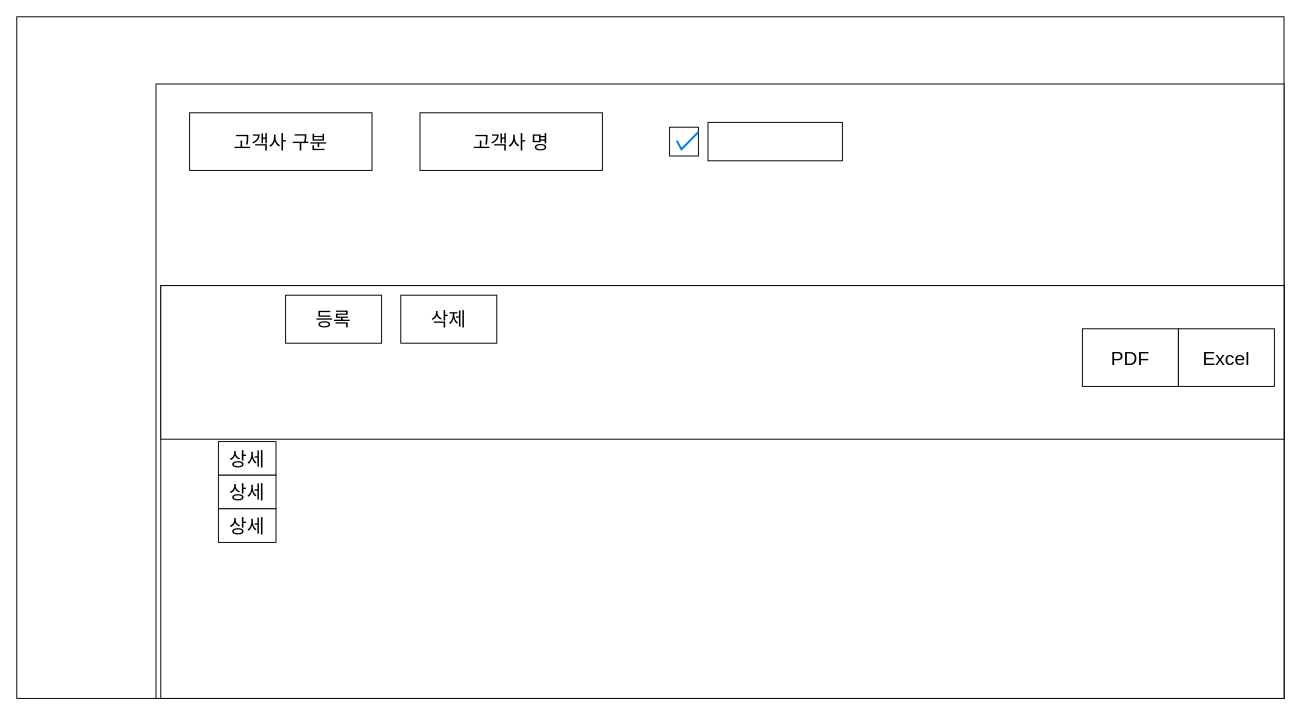
Some shapes in this 1301 by 715 pixel diagram are drawn without their labels. The box of each missing label's shape, as (x1, y1, x2, y2) in pixels:
그리드: (160, 285, 1284, 698)
폐업여부: (707, 121, 842, 161)
